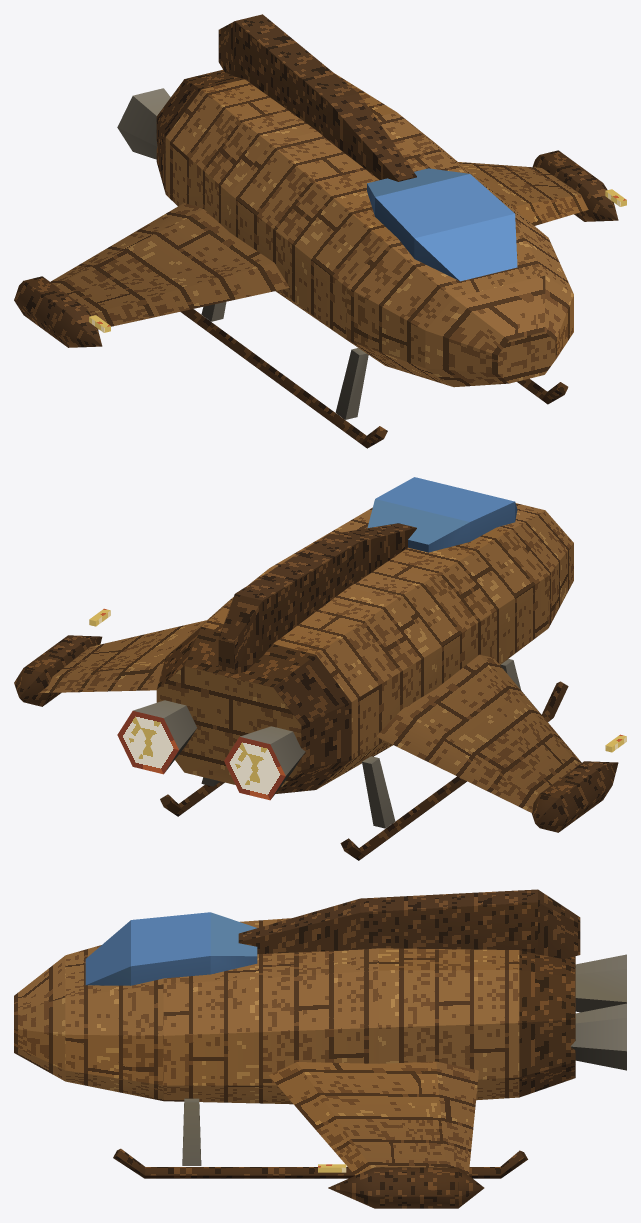
Rendered from ship.shuttle.glb.
3 views of the same model, one above another, from view 1: azimuth 30°, elevation 25°; view 2: azimuth 150°, elevation 25°; view 3: azimuth 270°, elevation 25° (orthographic). The views are drawn at different scales.
Visible parts, largest first — view 1: kit_body, kit_wings, kit_spine, kit_canopy, kit_tip_pods, kit_skids, kit_thrusters, kit_struts; view 2: kit_body, kit_wings, kit_spine, kit_thrusters, kit_canopy, kit_tip_pods, kit_skids, kit_struts; view 3: kit_body, kit_wings, kit_spine, kit_canopy, kit_thrusters, kit_tip_pods, kit_skids, kit_struts.
Boxes of the visible parts, left/top/right/bottom form: kit_body: left=156, top=69, right=573, bottom=387; kit_wings: left=50, top=162, right=588, bottom=329; kit_spine: left=218, top=14, right=416, bottom=181; kit_canopy: left=367, top=168, right=517, bottom=281; kit_tip_pods: left=14, top=150, right=618, bottom=347; kit_skids: left=180, top=309, right=568, bottom=448; kit_thrusters: left=117, top=88, right=170, bottom=159; kit_struts: left=201, top=302, right=368, bottom=419; kit_body: left=156, top=503, right=573, bottom=793; kit_wings: left=40, top=620, right=581, bottom=812; kit_spine: left=218, top=523, right=416, bottom=674; kit_thrusters: left=117, top=700, right=305, bottom=800; kit_canopy: left=367, top=477, right=517, bottom=552; kit_tip_pods: left=14, top=635, right=618, bottom=832; kit_skids: left=160, top=681, right=568, bottom=860; kit_struts: left=201, top=659, right=520, bottom=828; kit_body: left=14, top=918, right=575, bottom=1104; kit_wings: left=269, top=1061, right=478, bottom=1175; kit_spine: left=238, top=889, right=580, bottom=958; kit_canopy: left=85, top=912, right=257, bottom=985; kit_thrusters: left=570, top=954, right=626, bottom=1070; kit_tip_pods: left=328, top=1167, right=484, bottom=1208; kit_skids: left=113, top=1148, right=527, bottom=1178; kit_struts: left=182, top=1098, right=201, bottom=1165.
Size of the model in its own units: 6.44 by 2.84 by 6.55.
7 materials, 5 textured.
